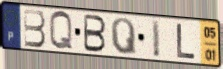B: (22, 8, 47, 49), (83, 13, 108, 54)
I: (150, 19, 161, 59)
L: (175, 22, 198, 61)
Q: (109, 16, 138, 57), (48, 9, 75, 52)
